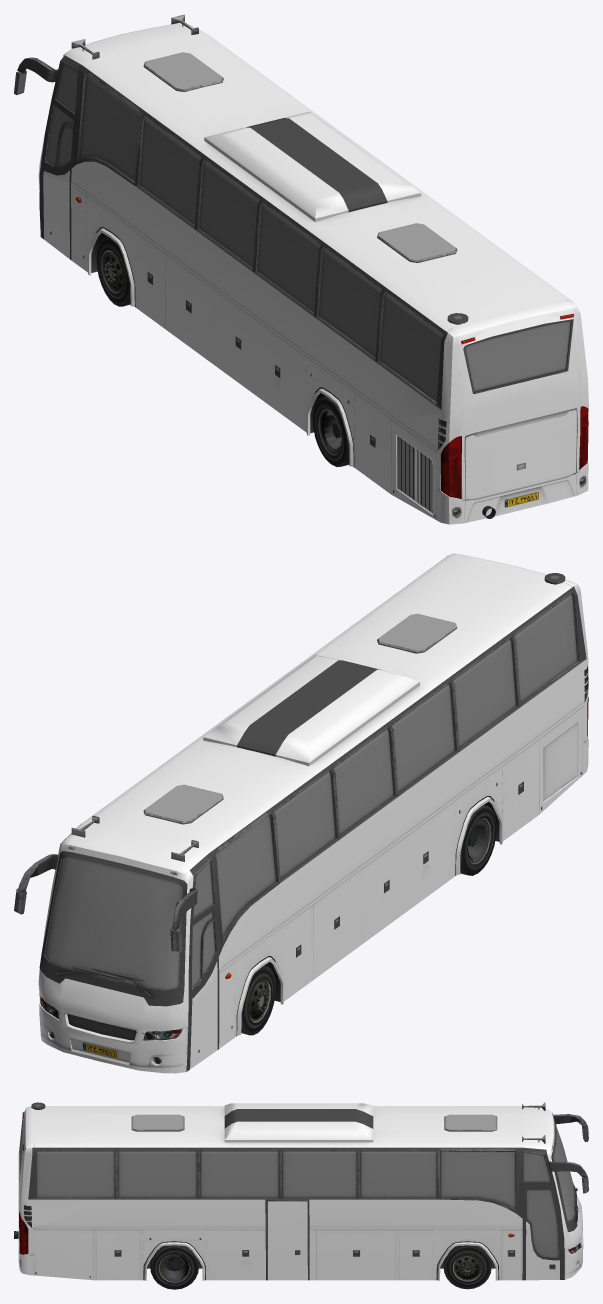
Rendered from Volvo B9R.fbx.
3 views of the same model, one above another, from view 1: azimuth 30°, elevation 25°; view 2: azimuth 150°, elevation 25°; view 3: azimuth 270°, elevation 25° (orthographic). The views are drawn at different scales.
Parts seen in each view (by area): view 1: Main_Body, Glass, OtherBody, Lights, FB, FL; view 2: Main_Body, Glass, OtherBody, FB, FL, Lights; view 3: Main_Body, Glass, OtherBody, FB, FR, Lights.
Part boxes in pixels (box(x1,y1,x2,y2)): Main_Body: box(38, 22, 588, 524); Glass: box(17, 65, 570, 401); OtherBody: box(14, 14, 573, 518); Lights: box(75, 197, 588, 515); FB: box(313, 396, 349, 466); FL: box(96, 236, 130, 306); Main_Body: box(38, 553, 588, 1073); Glass: box(45, 594, 577, 990); OtherBody: box(14, 573, 588, 1071); FB: box(460, 805, 496, 875); FL: box(241, 965, 275, 1035); Lights: box(40, 697, 588, 1063); Main_Body: box(18, 1103, 583, 1280); Glass: box(20, 1121, 584, 1258); OtherBody: box(14, 1102, 588, 1280); FB: box(150, 1245, 198, 1289); FR: box(443, 1245, 491, 1289); Lights: box(19, 1112, 580, 1254).
Size of the model in its own units: 8.11 by 10.36 by 35.89.
